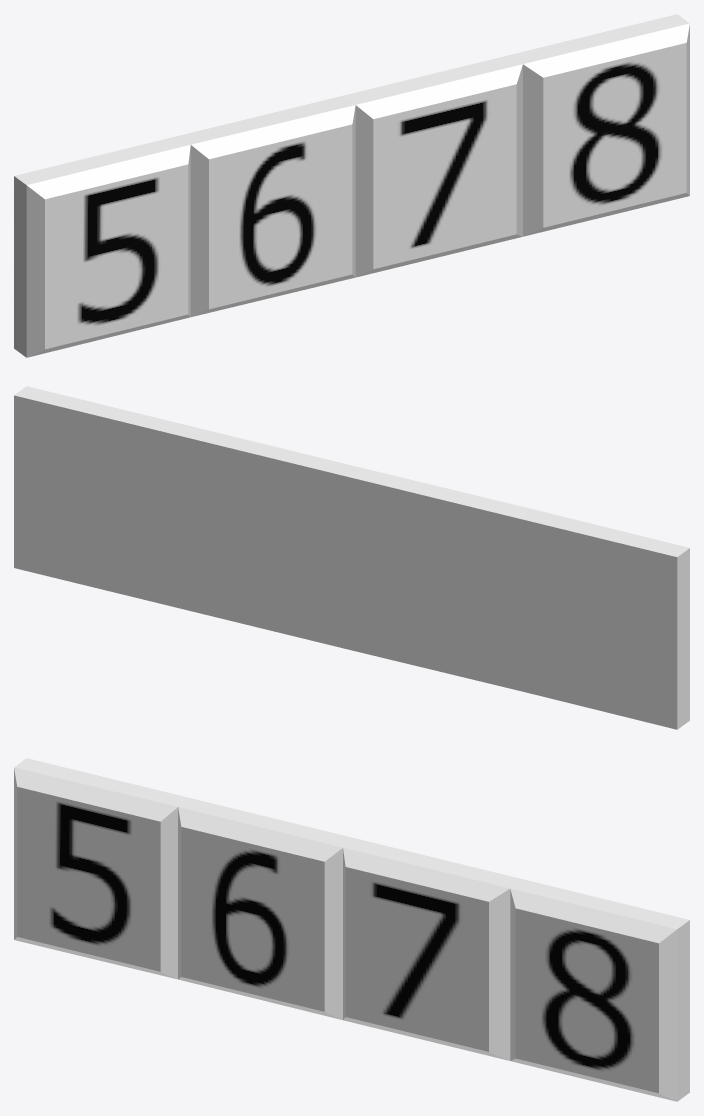
3 views of the same model, one above another, from view 1: azimuth 30°, elevation 25°; view 2: azimuth 150°, elevation 25°; view 3: azimuth 330°, elevation 25° (orthographic).
Parts seen in each view (by area): view 1: polySurface33; view 2: polySurface33; view 3: polySurface33.
Boxes of the visible parts, x1,y1,x2,y2 form: polySurface33: (14,14,689,357); polySurface33: (14,386,689,729); polySurface33: (14,758,689,1101).
Size of the model in its own units: 0.8391 by 0.2093 by 0.0443.
1 material, 1 textured.
